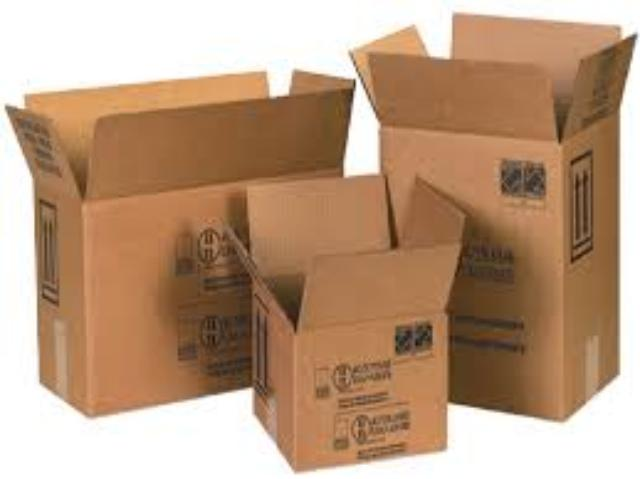cardboard paper: (4, 68, 356, 418), (351, 12, 630, 413), (227, 173, 460, 465)
